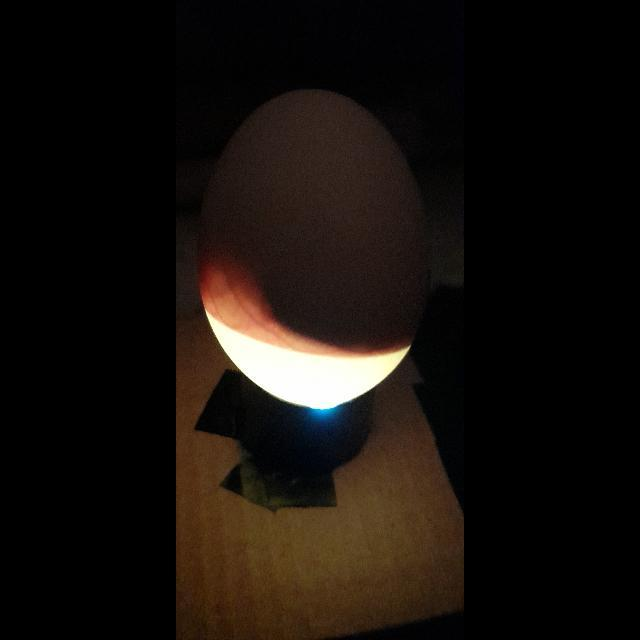Fertile: (195, 82, 428, 410)
